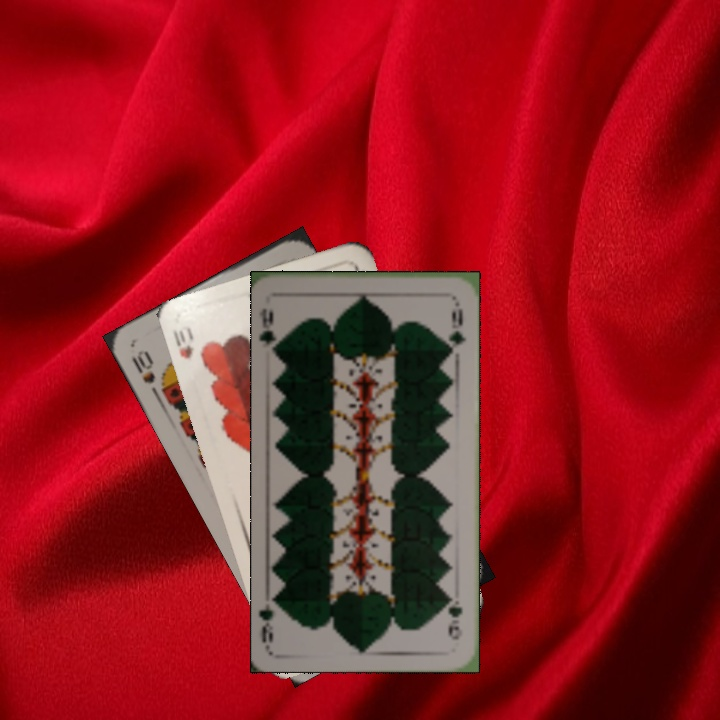G9: (258, 305, 285, 356), (444, 591, 465, 643)
H10: (168, 323, 197, 362)
S10: (127, 345, 169, 402)
